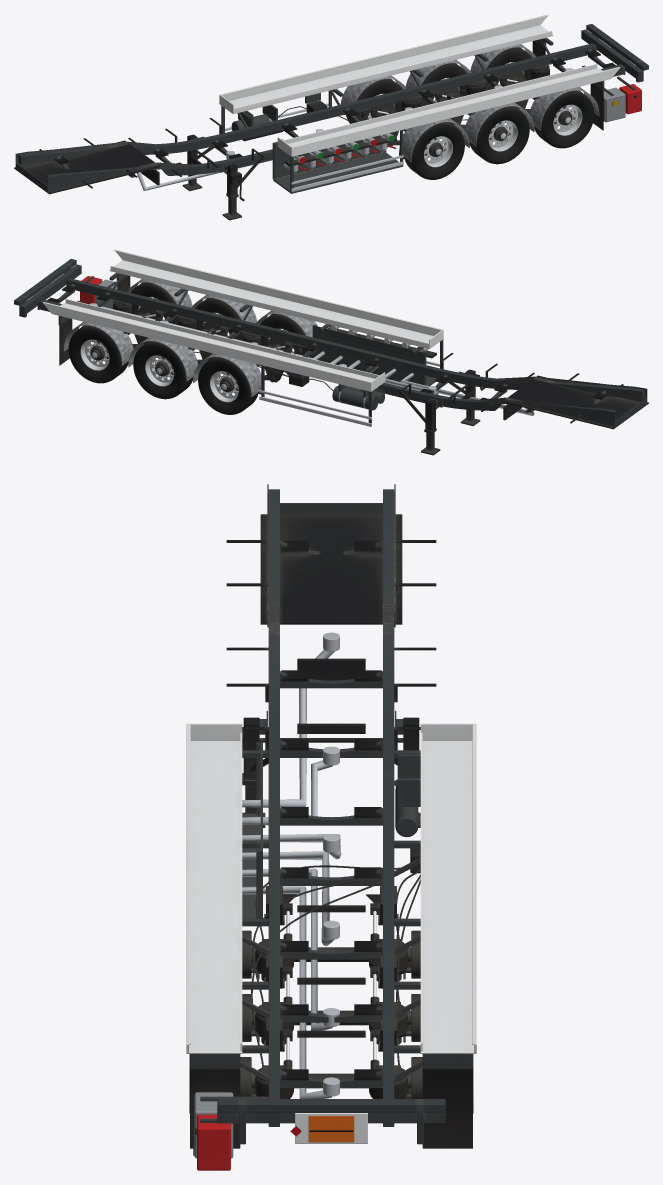
File: tanker-chassis.glb
The picture shows the model from 3 angles, top to bottom: view 1: azimuth 30°, elevation 25°; view 2: azimuth 150°, elevation 25°; view 3: azimuth 270°, elevation 25°; orthographic projection. The views are drawn at different scales.
Parts seen in each view (by area): view 1: object 1, Wheel.005, Wheel.001, Wheel.003, Wheel, Wheel.004, Wheel.002; view 2: object 1, Wheel.002, Wheel.004, Wheel, Wheel.001, Wheel.005, Wheel.003; view 3: object 1.
Part boxes in pixels (bbox=[...]): object 1: bbox=[14, 14, 648, 220]; Wheel.005: bbox=[534, 90, 594, 148]; Wheel.001: bbox=[404, 122, 464, 179]; Wheel.003: bbox=[469, 106, 529, 164]; Wheel: bbox=[346, 79, 402, 123]; Wheel.004: bbox=[486, 47, 532, 85]; Wheel.002: bbox=[421, 63, 467, 102]; object 1: bbox=[14, 249, 648, 455]; Wheel.002: bbox=[133, 341, 193, 399]; Wheel.004: bbox=[68, 325, 128, 383]; Wheel: bbox=[198, 357, 258, 414]; Wheel.001: bbox=[260, 314, 312, 371]; Wheel.005: bbox=[131, 282, 176, 320]; Wheel.003: bbox=[195, 298, 241, 336]; object 1: bbox=[186, 484, 476, 1170].
Size of the model in its own units: 11.93 by 1.56 by 2.54.
7 materials, 7 textured.
